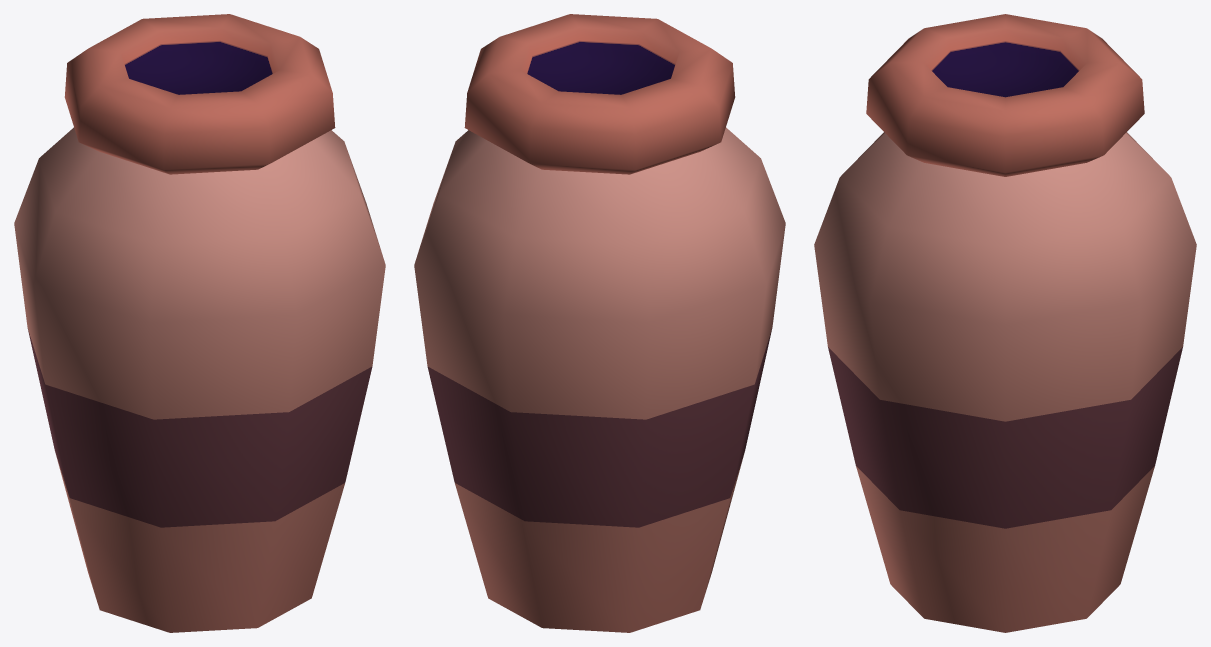
The model's file is Vase14.fbx.
3 renders of one model, left to right at view 1: azimuth 30°, elevation 25°; view 2: azimuth 150°, elevation 25°; view 3: azimuth 270°, elevation 25°, orthographic.
Parts seen in each view (by area): view 1: Vase14; view 2: Vase14; view 3: Vase14.
Boxes of the visible parts, bbox=[...] form: Vase14: bbox=[14, 14, 385, 632]; Vase14: bbox=[414, 14, 785, 632]; Vase14: bbox=[814, 14, 1196, 632].
Bounding box in the file's own units: 66.48 × 100 × 66.48.
